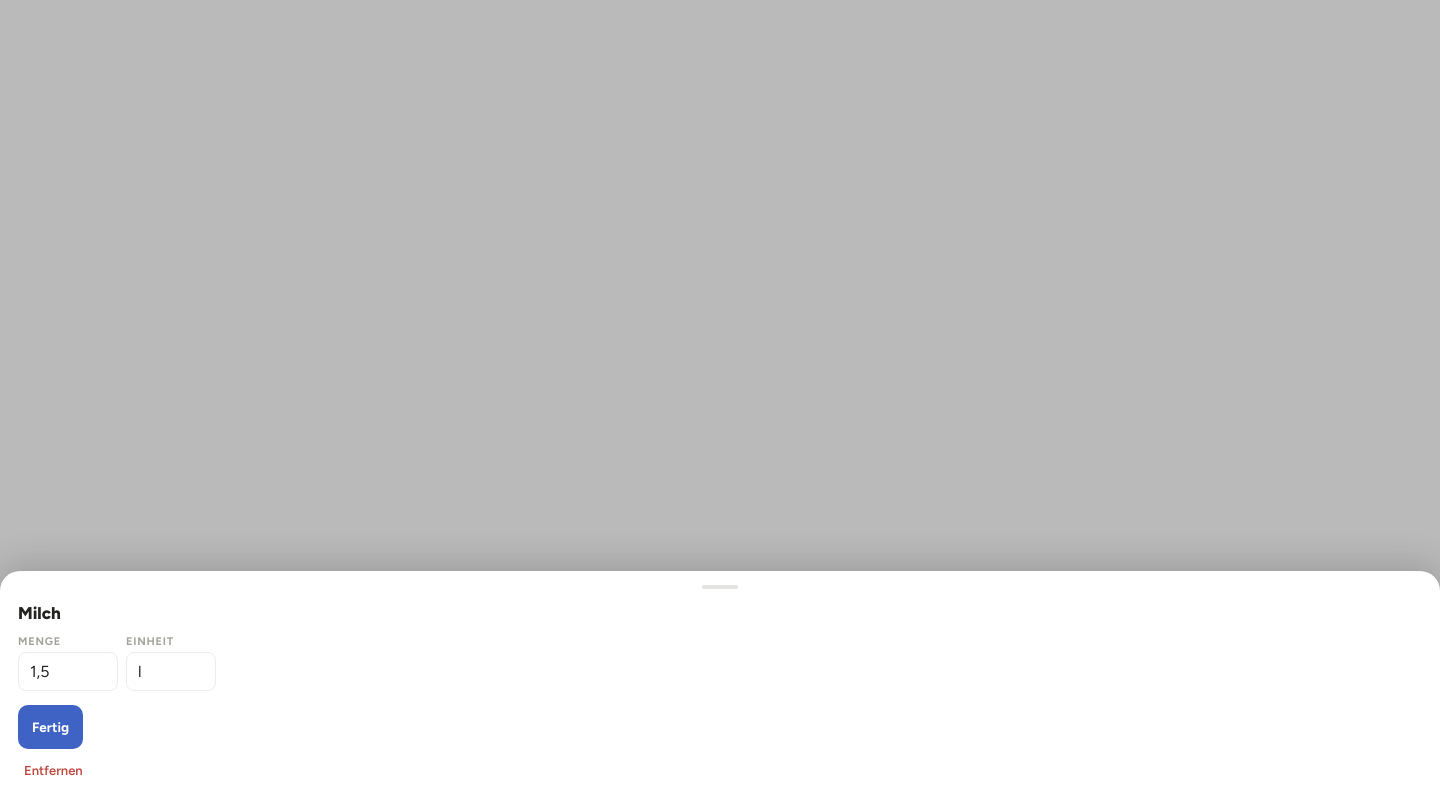
Test: RecipeItemSheet › surfaces a German error when removing the line fails
Click the button "Entfernen": x=53, y=770 18,761 -> 89,780
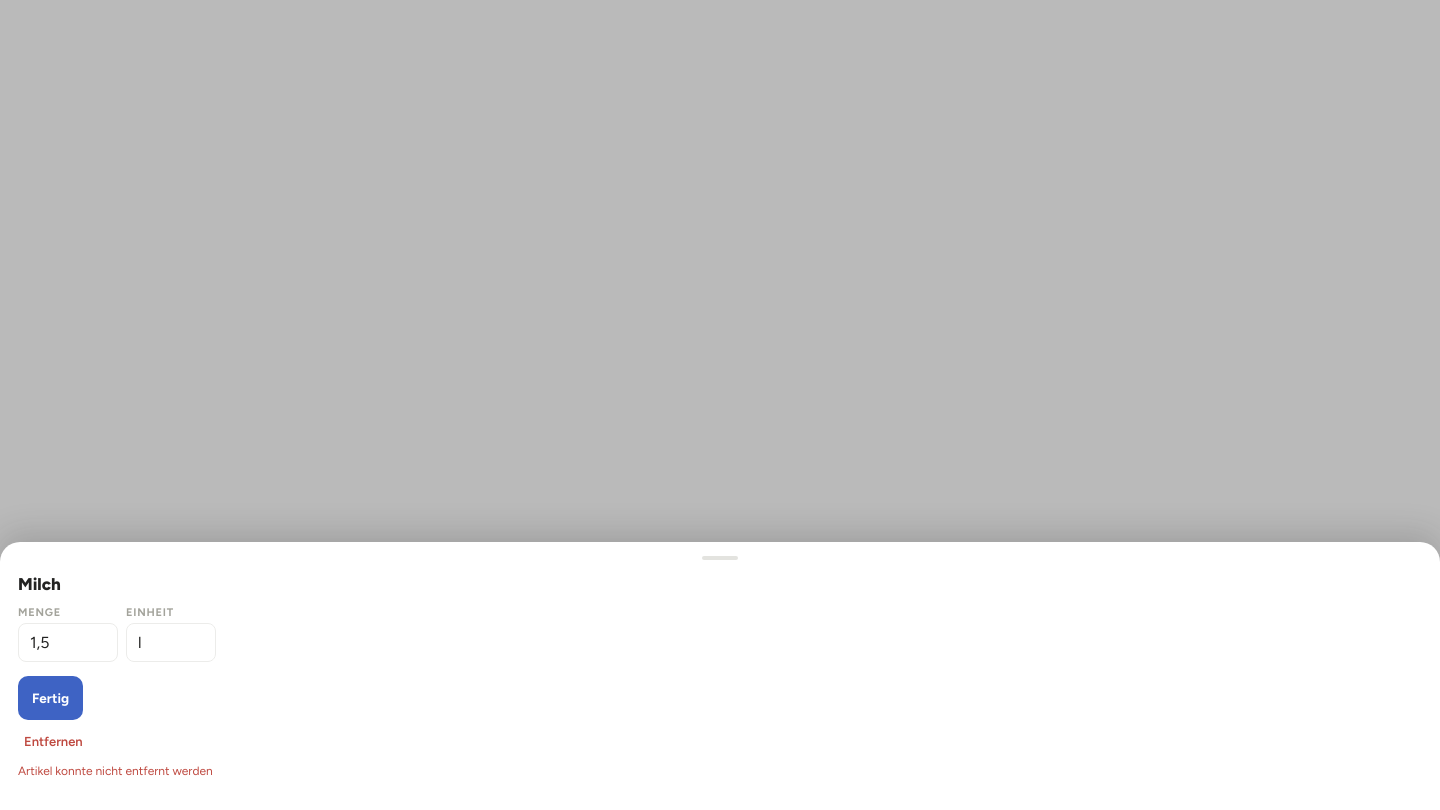
Now the message reads "Artikel konnte nicht entfernt werden", box 18,764 -> 213,778
